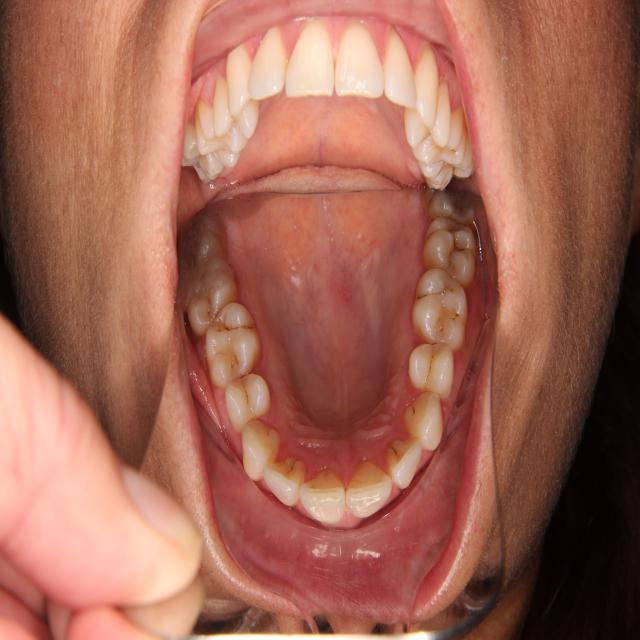tooth: (197, 298, 266, 394), (407, 260, 473, 355), (178, 257, 241, 340), (419, 214, 484, 286), (235, 413, 286, 487), (170, 201, 226, 268), (400, 380, 447, 459), (218, 371, 275, 434), (297, 464, 349, 533), (406, 331, 458, 400), (423, 178, 488, 229), (383, 423, 428, 496), (262, 443, 308, 513), (344, 457, 395, 519)
